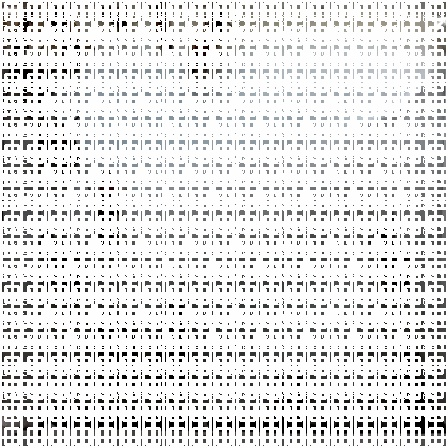bee: (354, 201, 422, 303), (75, 163, 138, 262), (22, 216, 91, 305), (18, 109, 94, 188), (67, 305, 148, 377), (152, 281, 201, 388), (41, 4, 110, 76), (381, 340, 434, 431), (251, 364, 319, 433), (184, 6, 238, 82), (1, 56, 67, 117), (141, 5, 180, 66), (6, 3, 45, 62)
